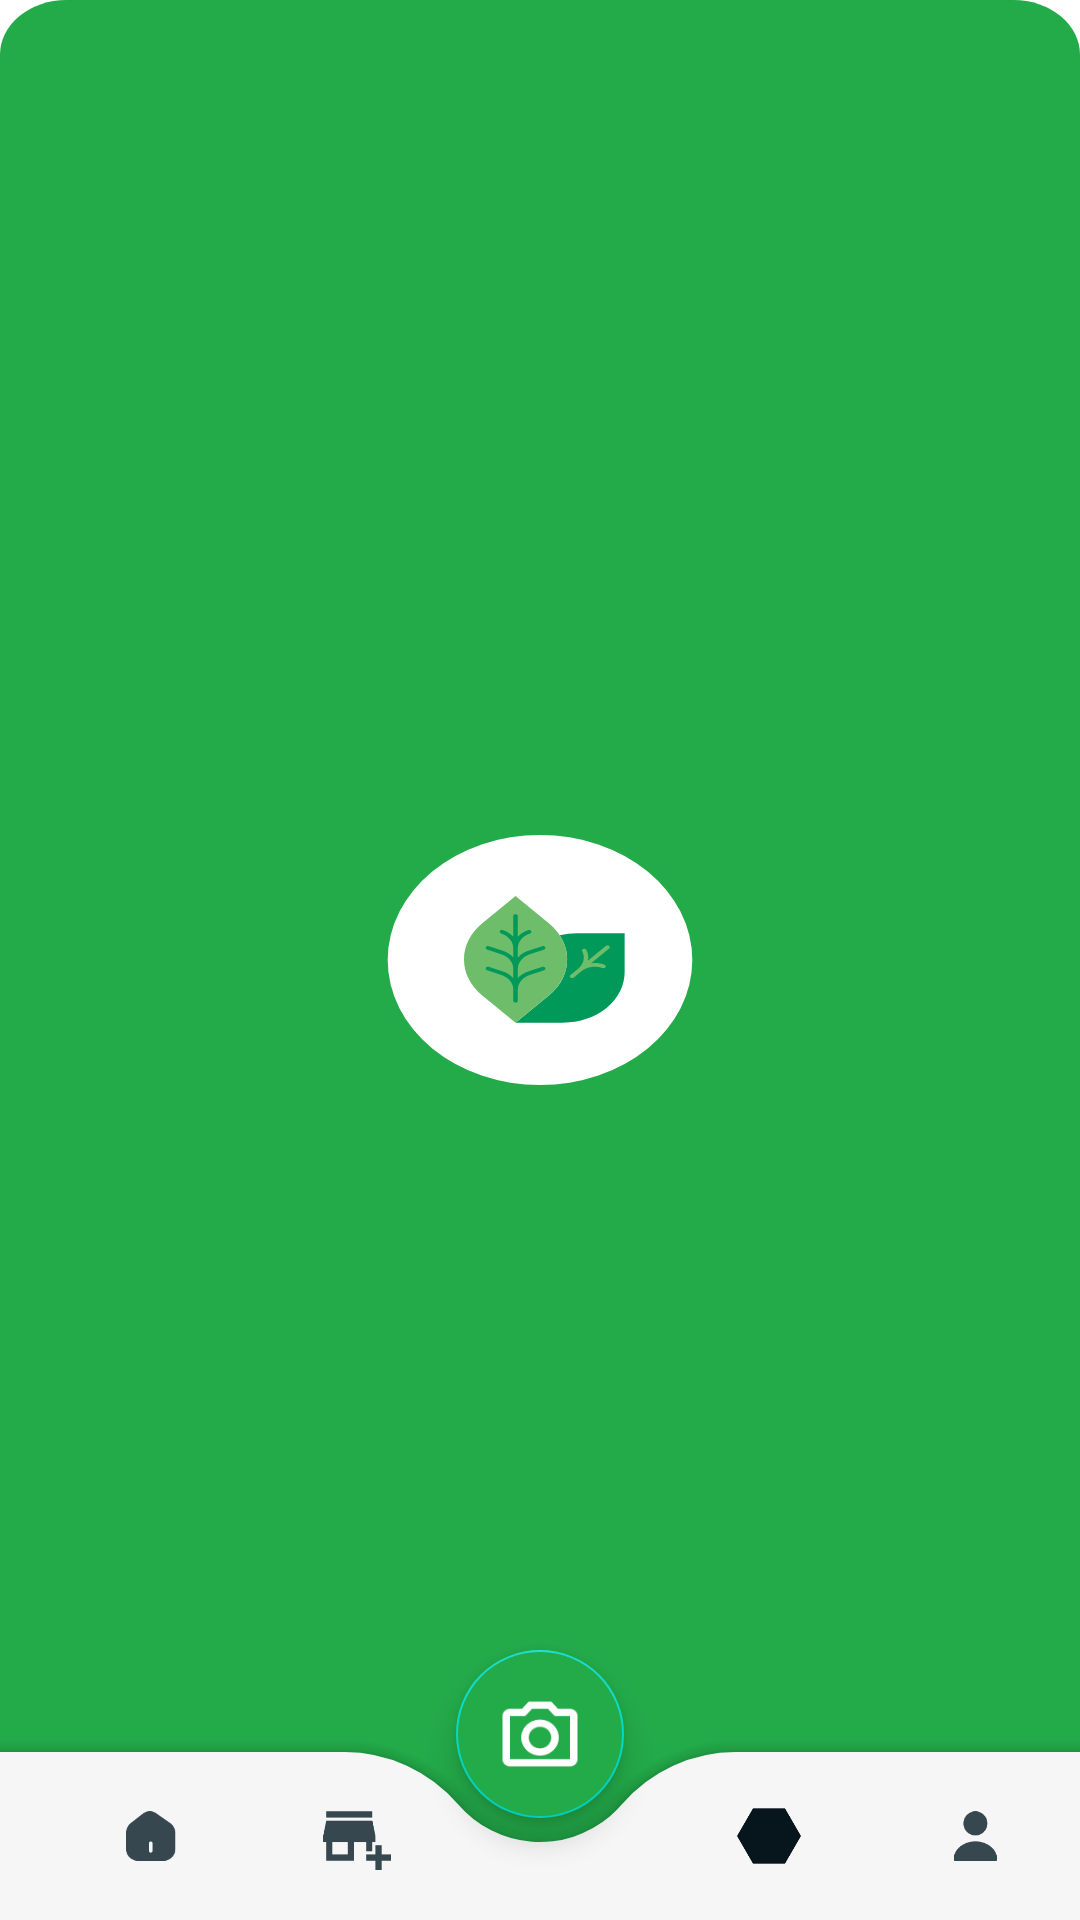

Icons on this 1080px×1920px Android screen, each with the point to tap as point (x, y):
camera: point (540, 1752)
